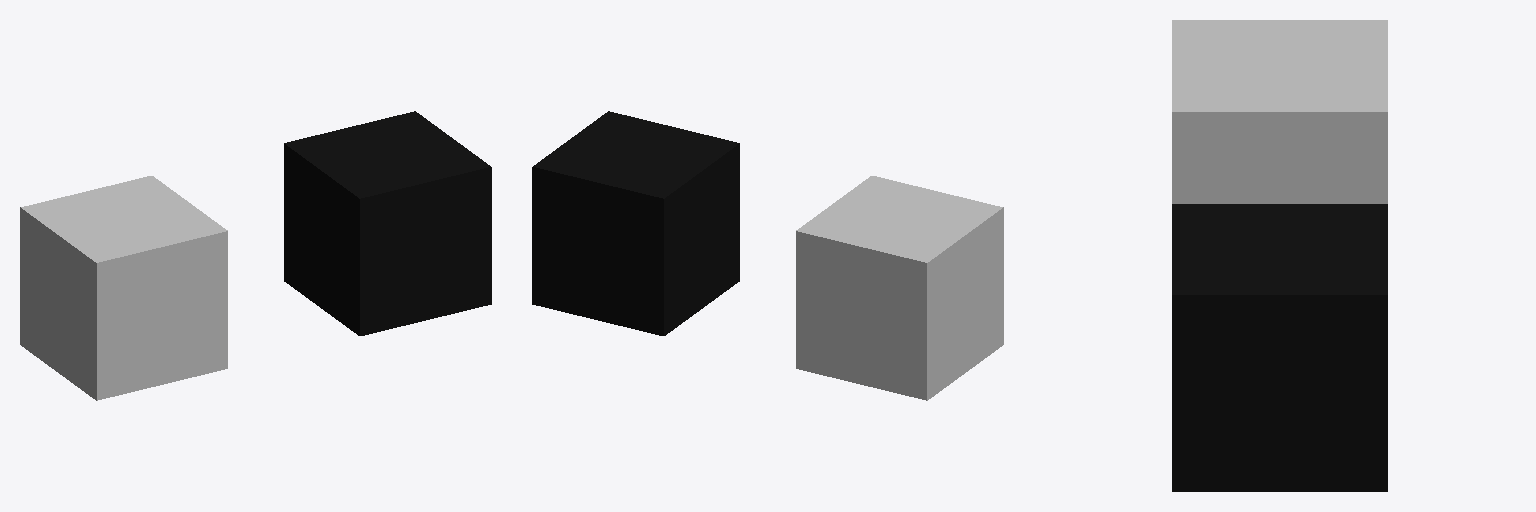
robot.urdf — japanese_material:
<?xml version="1.0" encoding="utf-8"?>
<robot name="japanese_material">
  <!-- Two ways a UTF-8 name goes wrong when it is read with the platform
       default instead of the declared encoding. Half-width katakana "ｱﾙﾐ"
       ("aluminium") is ef bd b1 ef be 99 ef be 90, and 0xEF is not a valid
       cp932 lead byte, so the read raises. Full-width "ゴム" ("rubber") is
       e3 82 b4 e3 83 a0, which is valid cp932 and decodes to garbage, so
       the name comes back quietly wrong instead. -->
  <material name="ｱﾙﾐ">
    <color rgba="0.8 0.8 0.8 1.0"/>
  </material>
  <material name="ゴム">
    <color rgba="0.1 0.1 0.1 1.0"/>
  </material>
  <link name="base_link">
    <inertial>
      <origin xyz="0 0 0" rpy="0 0 0"/>
      <mass value="0.062"/>
      <inertia ixx="1e-05" ixy="0" ixz="0" iyy="1e-05" iyz="0" izz="1e-05"/>
    </inertial>
    <visual>
      <origin xyz="0 0 0" rpy="0 0 0"/>
      <geometry>
        <box size="0.1 0.1 0.1"/>
      </geometry>
      <material name="ｱﾙﾐ"/>
    </visual>
    <visual>
      <origin xyz="0.2 0 0" rpy="0 0 0"/>
      <geometry>
        <box size="0.1 0.1 0.1"/>
      </geometry>
      <material name="ゴム"/>
    </visual>
  </link>
</robot>

--- Facts derived from the render (not from the file) ---
3 views of the same robot in one strip: view 1: azimuth 30°, elevation 25°; view 2: azimuth 150°, elevation 25°; view 3: azimuth 270°, elevation 25° (orthographic).
Robot: japanese_material — 1 links, 0 joints (none); root link base_link; default pose: all joints at 0.
Visible links, largest first — view 1: base_link; view 2: base_link; view 3: base_link.
Link boxes in pixels (x1,y1,x2,y2): base_link: (20, 111, 491, 400); base_link: (532, 111, 1003, 400); base_link: (1172, 20, 1387, 491).
Size in the robot's own frame: 0.3 by 0.1 by 0.1 metres.
Geometry: primitives only (box / cylinder / sphere), no mesh files.
